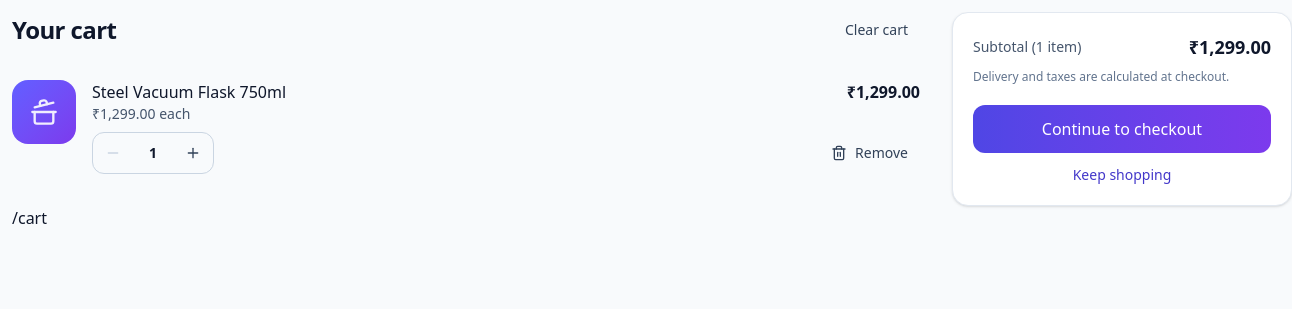
Test: CartPage › removes a line
The width and height of the screenshot is (1292, 309).
Step 1. Click the button with aria-label "Remove Steel Vacuum Flask 750ml from cart" → (870, 153), box [819, 135, 920, 171]
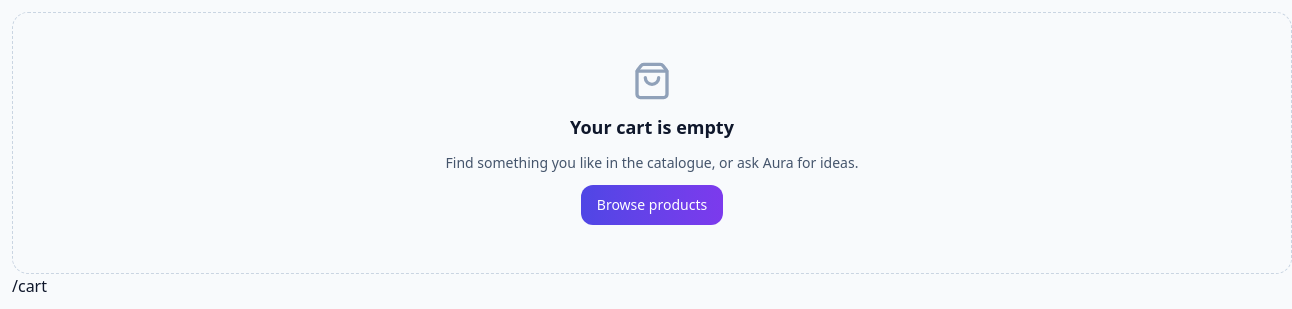
Check: the heading "Your cart is empty" is shown, box [570, 113, 734, 141]
